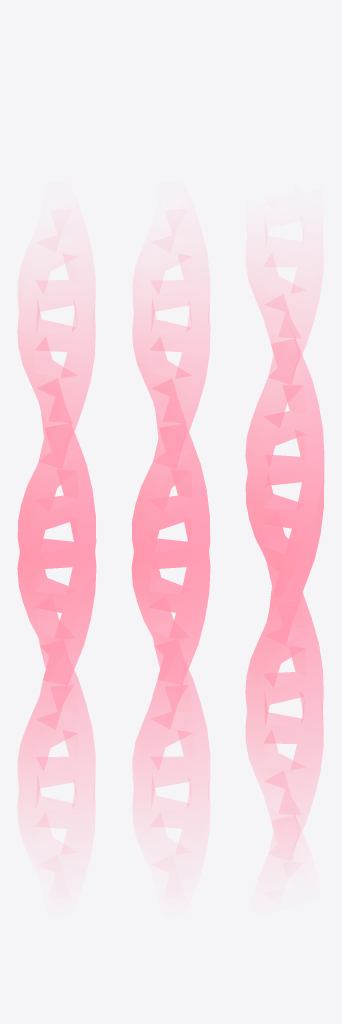
Rendered from DNAFade.glb.
3 renders of one model, left to right at view 1: azimuth 30°, elevation 25°; view 2: azimuth 210°, elevation 25°; view 3: azimuth 330°, elevation 25°, orthographic.
Visible parts, largest first — view 1: Plane; view 2: Plane; view 3: Plane.
Boxes of the visible parts, left/top/right/bottom form: Plane: left=17, top=210, right=96, bottom=879; Plane: left=131, top=210, right=210, bottom=879; Plane: left=245, top=216, right=324, bottom=877.
Size of the model in its own units: 1.62 by 20.5 by 1.51.
1 material, 1 textured.
